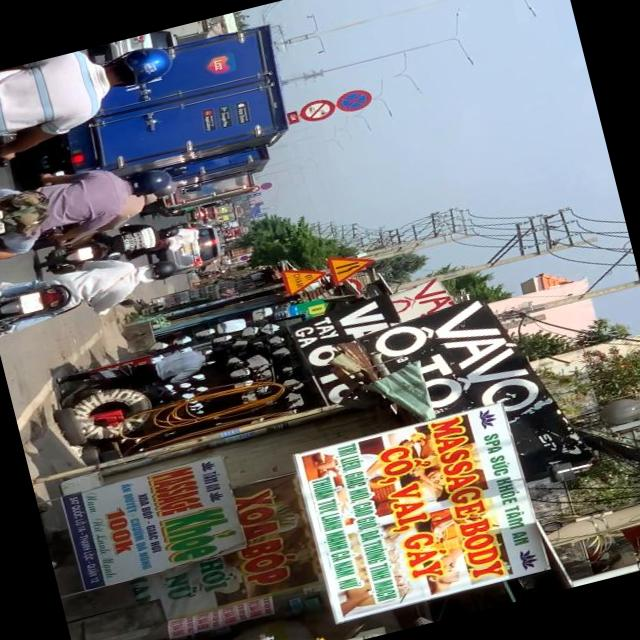W-203c: (324, 248, 376, 286)
W-245a: (280, 260, 329, 298)
